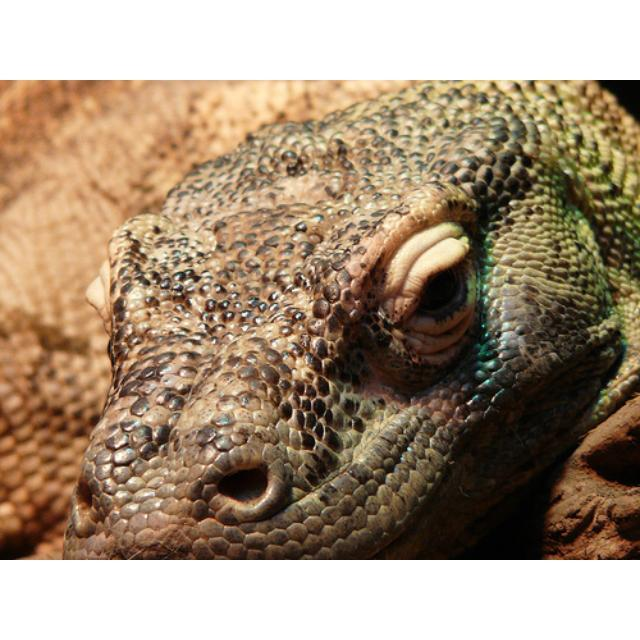KomodoDragon: (63, 89, 631, 558)
